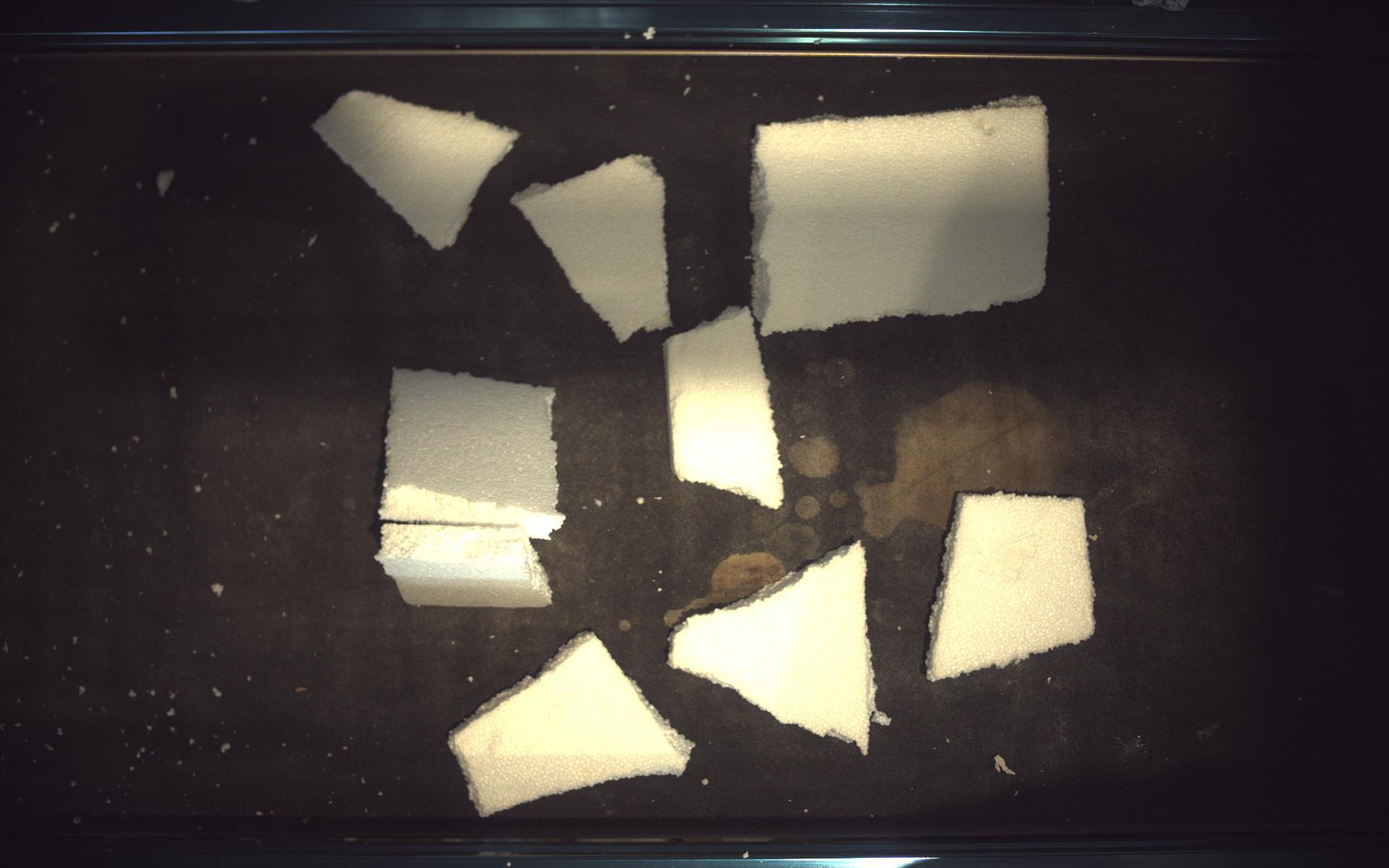foam: (753, 96, 1051, 335), (449, 633, 694, 818), (669, 542, 878, 756), (313, 89, 519, 249), (929, 493, 1097, 681), (380, 370, 564, 539), (512, 154, 672, 341), (665, 307, 785, 509), (375, 523, 552, 608)
